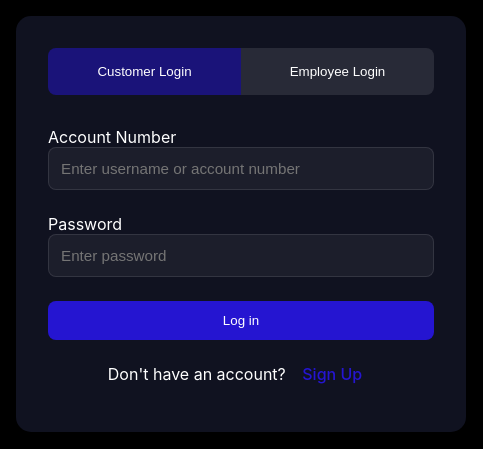
Test case: Login Component › switches between customer and employee login
The width and height of the screenshot is (483, 449).
Click the button "Employee Login": point(338, 72) [241, 48, 434, 95]
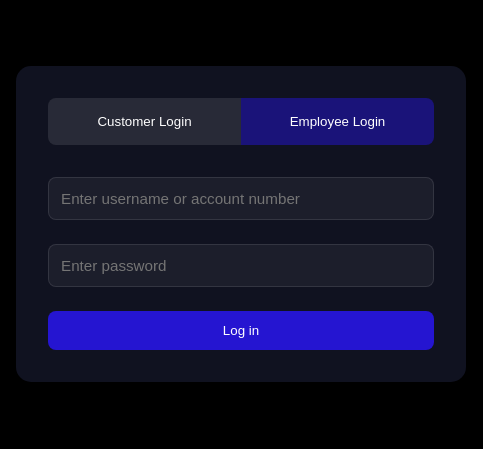
Expected: the field with placeholder "Enter username or account number" is shown, [48, 177, 434, 220]
Click the button "Customer Login": point(144, 122) [48, 98, 241, 145]
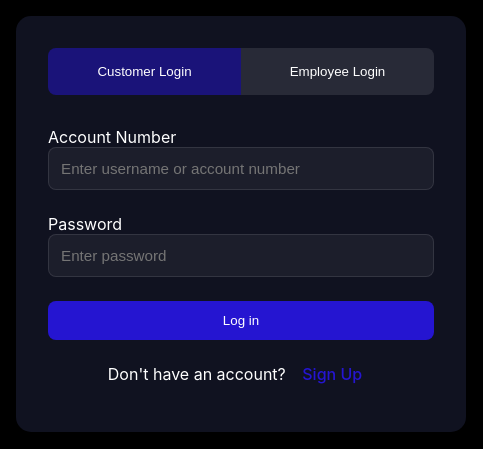
Expected: the field labelled "Account Number" is shown, [48, 147, 434, 190]
